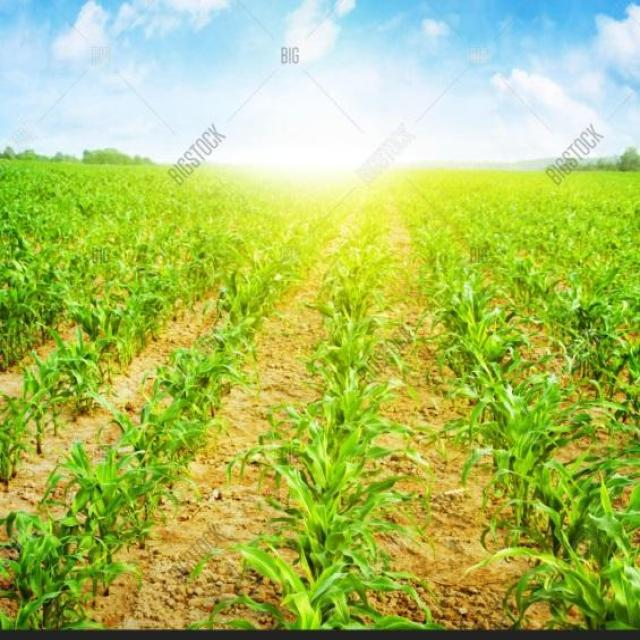row: (51, 231, 356, 629), (359, 228, 573, 630), (0, 270, 244, 547), (448, 226, 640, 554), (0, 225, 208, 403)
